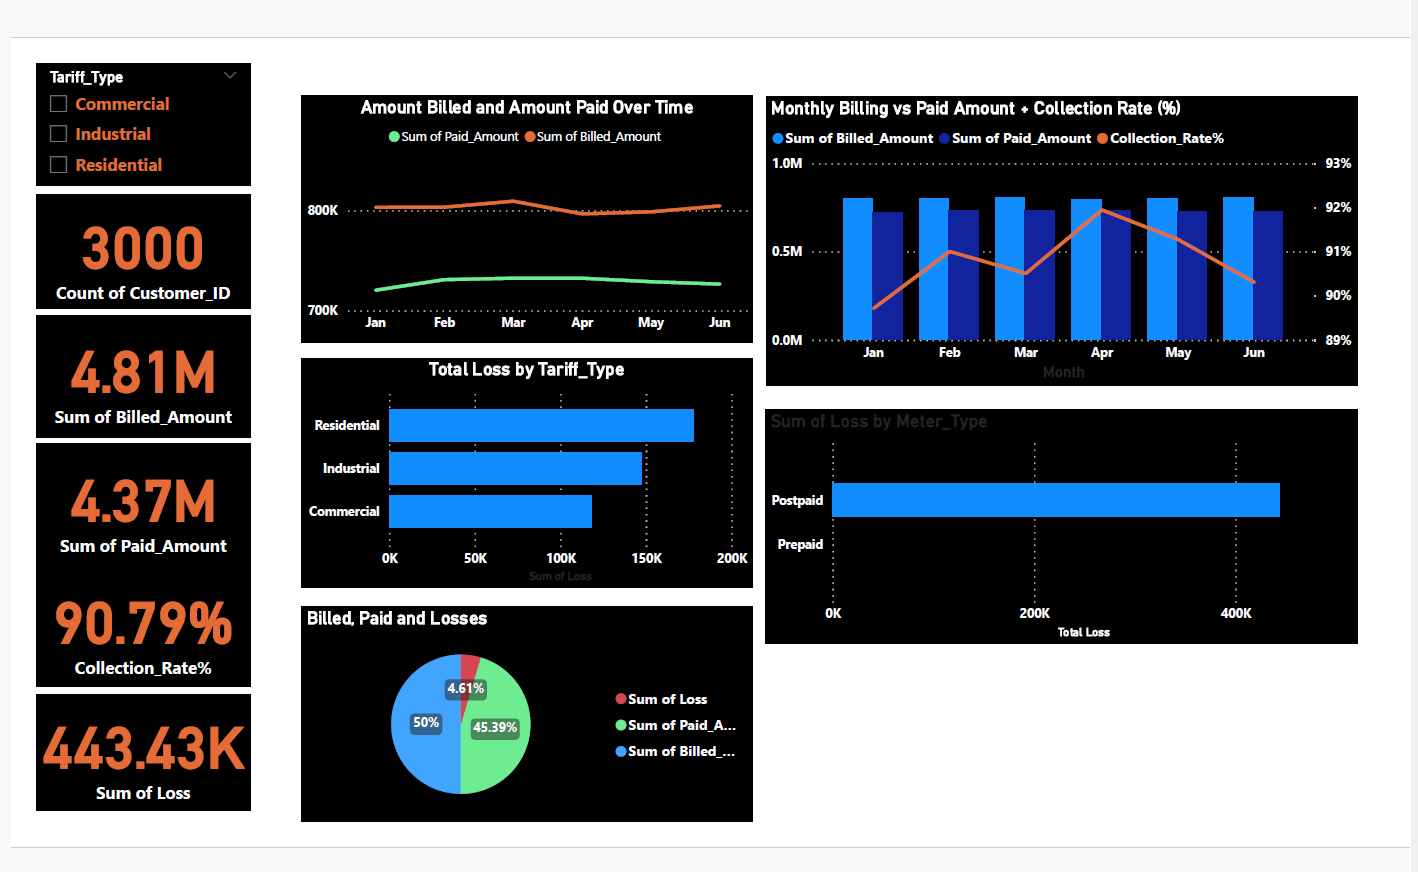

Layout of this report page (visuals, bound fields, positions):
{"tool":"powerbi","page":{"name":"Page 1","canvas":[1280,720],"ordinal":0},"visuals":[{"type":"card","fields":{"Values":["Count(ECG_NsawamDistrict_BillingData.Customer_ID)"]},"box":[0,125.4,202.6,107.3],"z":0},{"type":"card","title":"aaaa","fields":{"Values":["Sum(ECG_NsawamDistrict_BillingData.Billed_Amount)"]},"box":[0,238.8,202.6,115.8],"z":1},{"type":"card","fields":{"Values":["Sum(ECG_NsawamDistrict_BillingData.Paid_Amount)"]},"box":[0,360.6,202.6,117],"z":2},{"type":"card","fields":{"Values":["ECG_NsawamDistrict_BillingData.Collection_Rate%"]},"box":[0,477.6,202.6,114.6],"z":3},{"type":"card","fields":{"Values":["Sum(ECG_NsawamDistrict_BillingData.Loss)"]},"box":[0,599.4,202.6,109.7],"z":4},{"type":"lineChart","title":"Amount Billed and Amount Paid Over Time","fields":{"Y":["Sum(ECG_NsawamDistrict_BillingData.Paid_Amount)","Sum(ECG_NsawamDistrict_BillingData.Billed_Amount)"],"Category":["MonthTable.Month"]},"box":[252.1,31.4,428.1,234],"z":5},{"type":"lineClusteredColumnComboChart","title":"Monthly Billing vs Paid Amount + Collection Rate (%)","fields":{"Category":["MonthTable.Month"],"Y":["Sum(ECG_NsawamDistrict_BillingData.Billed_Amount)","Sum(ECG_NsawamDistrict_BillingData.Paid_Amount)"],"Y2":["ECG_NsawamDistrict_BillingData.Collection_Rate%"]},"box":[693,31.6,561.2,274.4],"z":6},{"type":"clusteredBarChart","title":"Total Loss by Tariff_Type","fields":{"Category":["ECG_NsawamDistrict_BillingData.Tariff_Type"],"Y":["Sum(ECG_NsawamDistrict_BillingData.Loss)"]},"box":[252.1,279.8,428.1,218.3],"z":7},{"type":"clusteredBarChart","fields":{"Y":["Sum(ECG_NsawamDistrict_BillingData.Loss)"],"Category":["ECG_NsawamDistrict_BillingData.Meter_Type"]},"box":[692.3,329.2,562,221.9],"z":8},{"type":"pieChart","title":"Billed, Paid and Losses","fields":{"Y":["Sum(ECG_NsawamDistrict_BillingData.Loss)","Sum(ECG_NsawamDistrict_BillingData.Paid_Amount)","Sum(ECG_NsawamDistrict_BillingData.Billed_Amount)"]},"box":[252.1,516.2,428.1,203.8],"z":10},{"type":"slicer","fields":{"Values":["ECG_NsawamDistrict_BillingData.Tariff_Type"]},"box":[0,0,202.6,115.8],"z":11}]}

Visuals, with their boxes in screenshot pixels (x1, y1, x2, y2):
card - Count(ECG_NsawamDistrict_BillingData.Customer_ID): rect(33, 191, 247, 304)
"aaaa" card: rect(33, 311, 247, 433)
card - Sum(ECG_NsawamDistrict_BillingData.Paid_Amount): rect(33, 439, 247, 562)
card - ECG_NsawamDistrict_BillingData.Collection_Rate%: rect(33, 562, 247, 683)
card - Sum(ECG_NsawamDistrict_BillingData.Loss): rect(33, 691, 247, 806)
"Amount Billed and Amount Paid Over Time" lineChart: rect(299, 92, 750, 339)
"Monthly Billing vs Paid Amount + Collection Rate (%)" lineClusteredColumnComboChart: rect(763, 92, 1355, 382)
"Total Loss by Tariff_Type" clusteredBarChart: rect(299, 354, 750, 584)
clusteredBarChart - Sum(ECG_NsawamDistrict_BillingData.Loss) x ECG_NsawamDistrict_BillingData.Meter_Type: rect(763, 406, 1355, 640)
"Billed, Paid and Losses" pieChart: rect(299, 603, 750, 818)
slicer - ECG_NsawamDistrict_BillingData.Tariff_Type: rect(33, 59, 247, 181)
